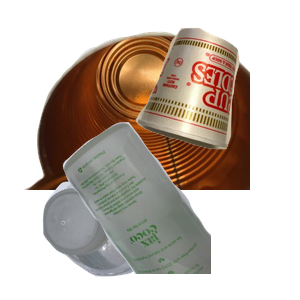glass: (60, 120, 300, 300)
metal: (21, 29, 261, 209)
plastic: (40, 170, 187, 300)
trash: (133, 25, 300, 167)
